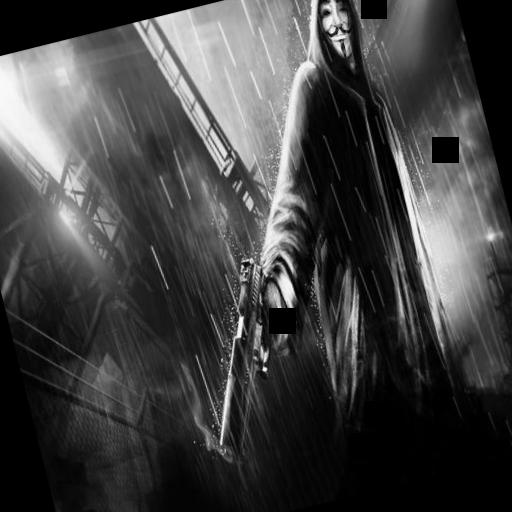Handgun: (171, 250, 308, 454)
